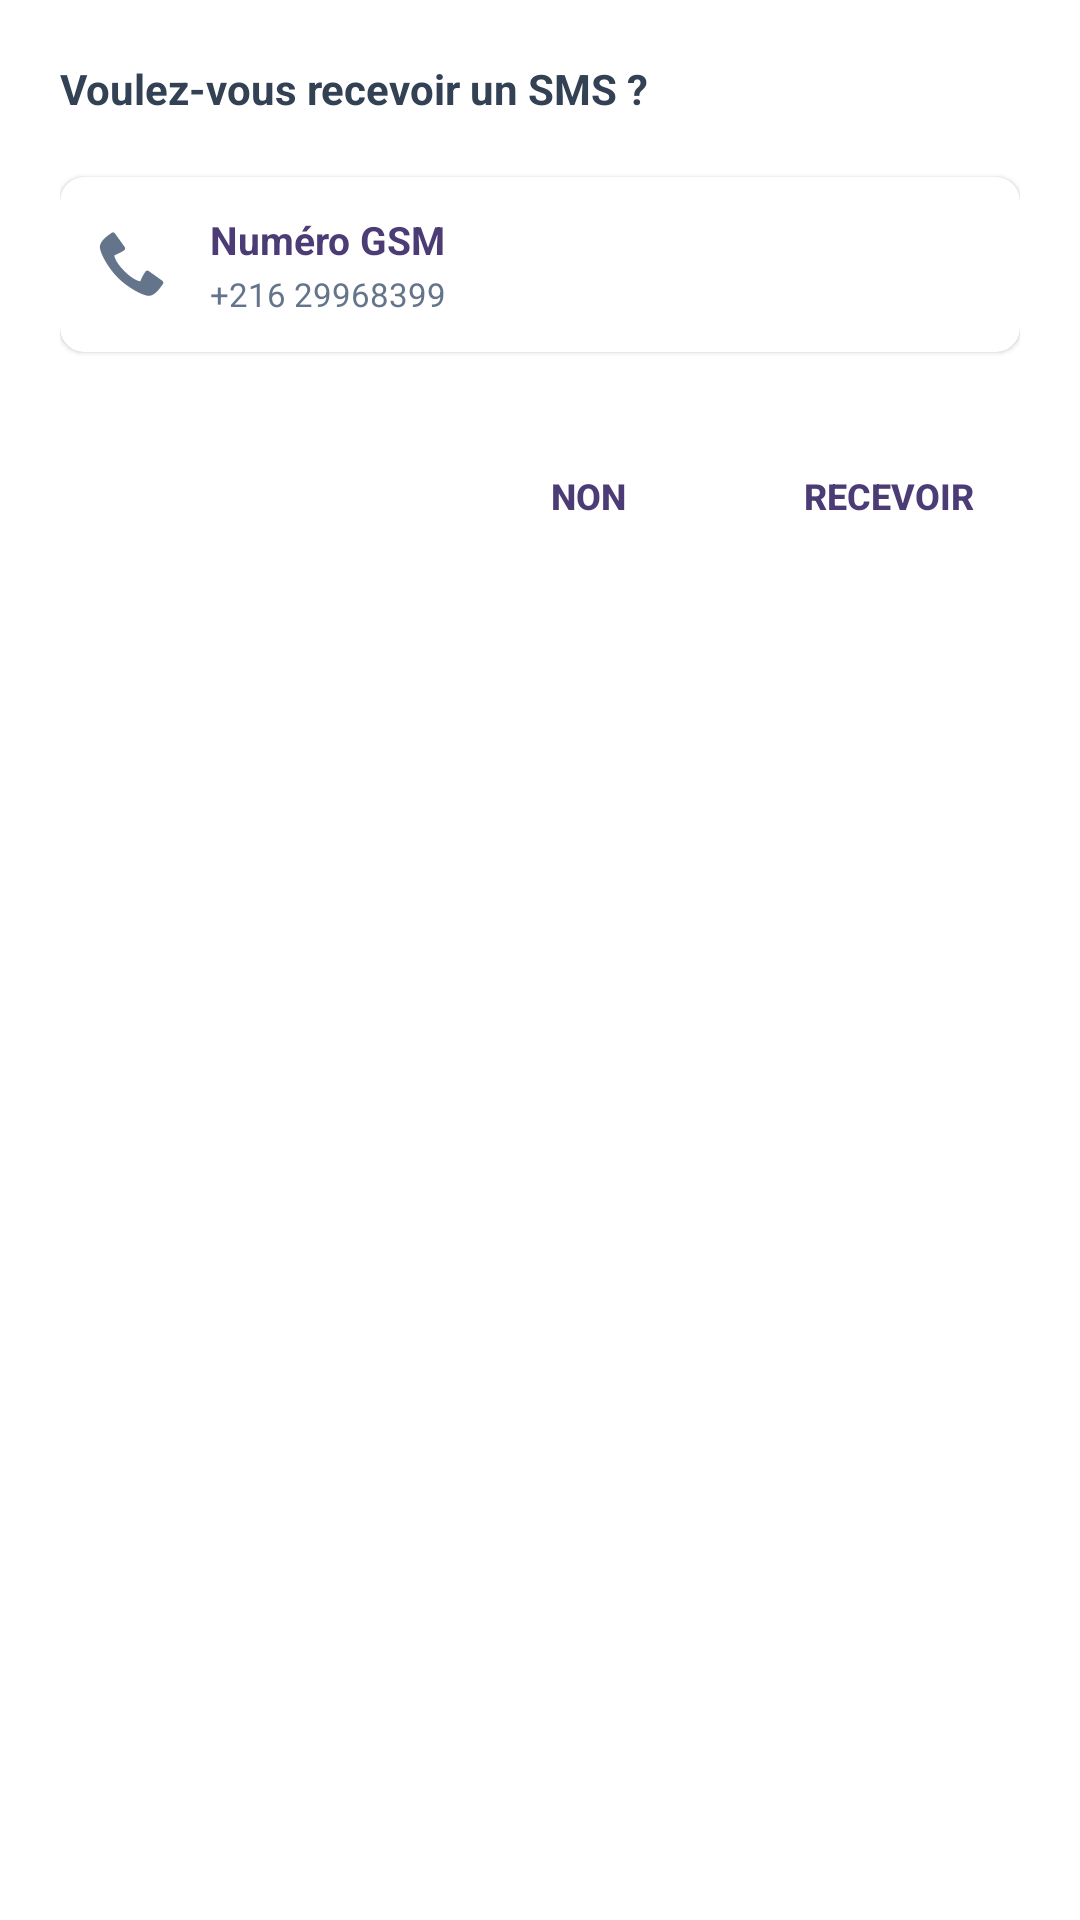

Icons on this 1080*1920 Android screen, each with the point to tap as point (x, y):
phone call: point (132, 264)
